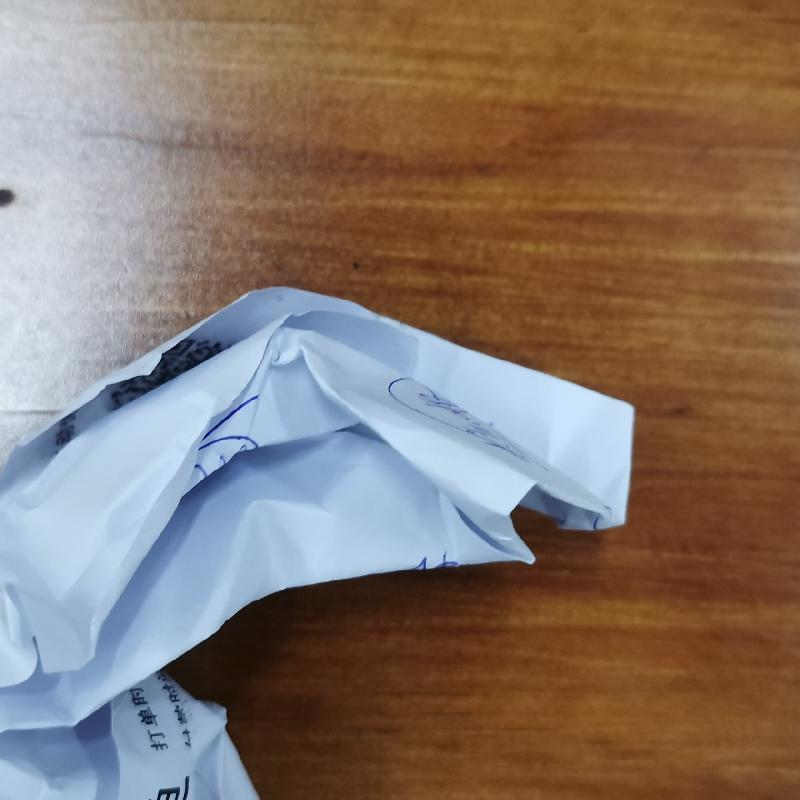spitball: (1, 287, 640, 800)
